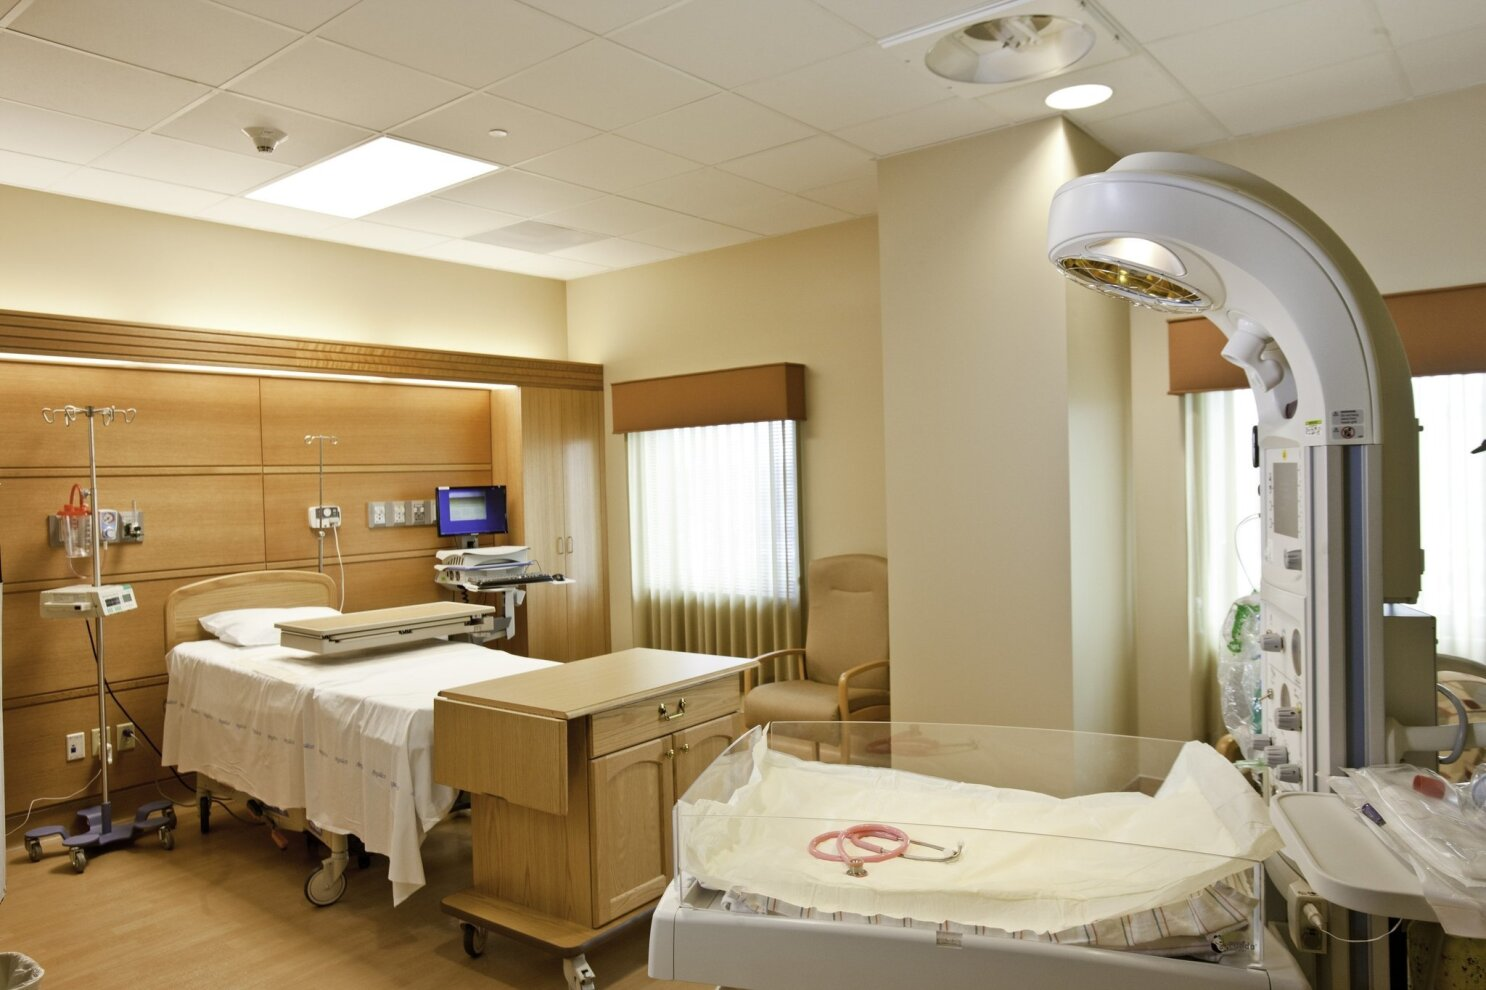bedside_table: (432, 645, 761, 986)
chair: (744, 551, 888, 764)
computer: (437, 484, 508, 537)
curtain: (516, 372, 622, 662)
handle: (659, 700, 693, 722), (663, 744, 678, 762), (680, 741, 695, 759), (558, 534, 568, 556), (567, 535, 575, 557)
hospital_bed: (158, 565, 589, 910)
iv_pole: (21, 404, 178, 885), (307, 432, 339, 573)
keyboard: (468, 567, 553, 586)
mouse: (553, 573, 565, 583)
overbed_table: (273, 600, 499, 658)
panda_baby_warmer: (651, 138, 1441, 990)
syringe_pump: (34, 582, 143, 620)
